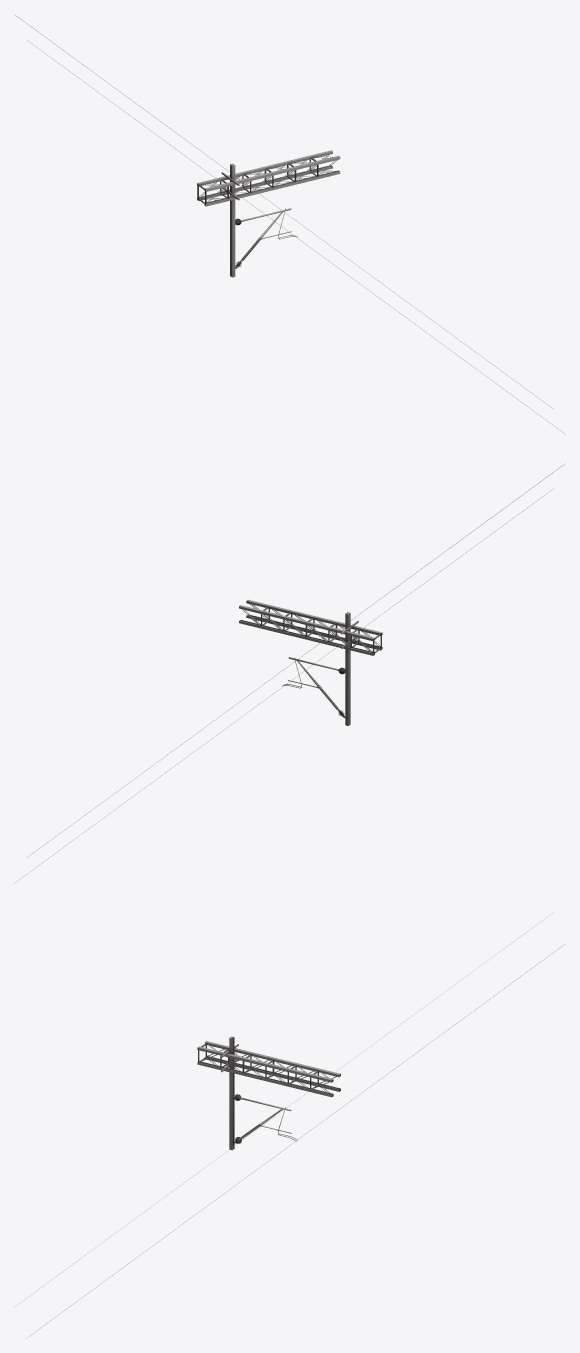
The model's file is SM_Electric_Pole_Wide_top.FBX.
3 views of the same model, one above another, from view 1: azimuth 30°, elevation 25°; view 2: azimuth 150°, elevation 25°; view 3: azimuth 330°, elevation 25° (orthographic).
Visible parts, largest first — view 1: SM_Electric_Pole_Wide_top; view 2: SM_Electric_Pole_Wide_top; view 3: SM_Electric_Pole_Wide_top.
Boxes of the visible parts, <box> form: SM_Electric_Pole_Wide_top: <box>14,14,565,434</box>; SM_Electric_Pole_Wide_top: <box>14,463,565,883</box>; SM_Electric_Pole_Wide_top: <box>15,912,564,1338</box>.
Bounding box in the file's own units: 719 × 5000 × 571.
